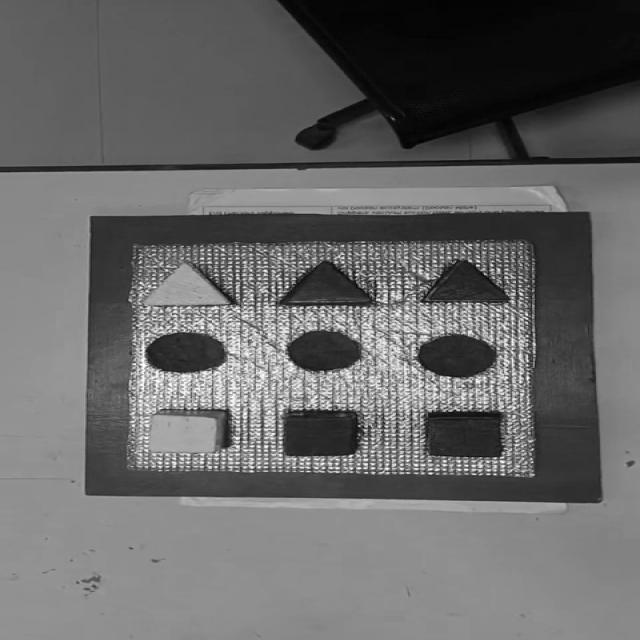bcube: (424, 411, 506, 458)
btriangle: (422, 259, 512, 303)
mtcircle: (416, 334, 498, 377), (144, 331, 226, 372), (286, 330, 363, 372)
rcube: (281, 410, 360, 457)
rtriangle: (278, 262, 372, 306)
wb: (124, 240, 542, 477)
ycube: (147, 409, 225, 454)
ytriangle: (140, 260, 233, 306)
